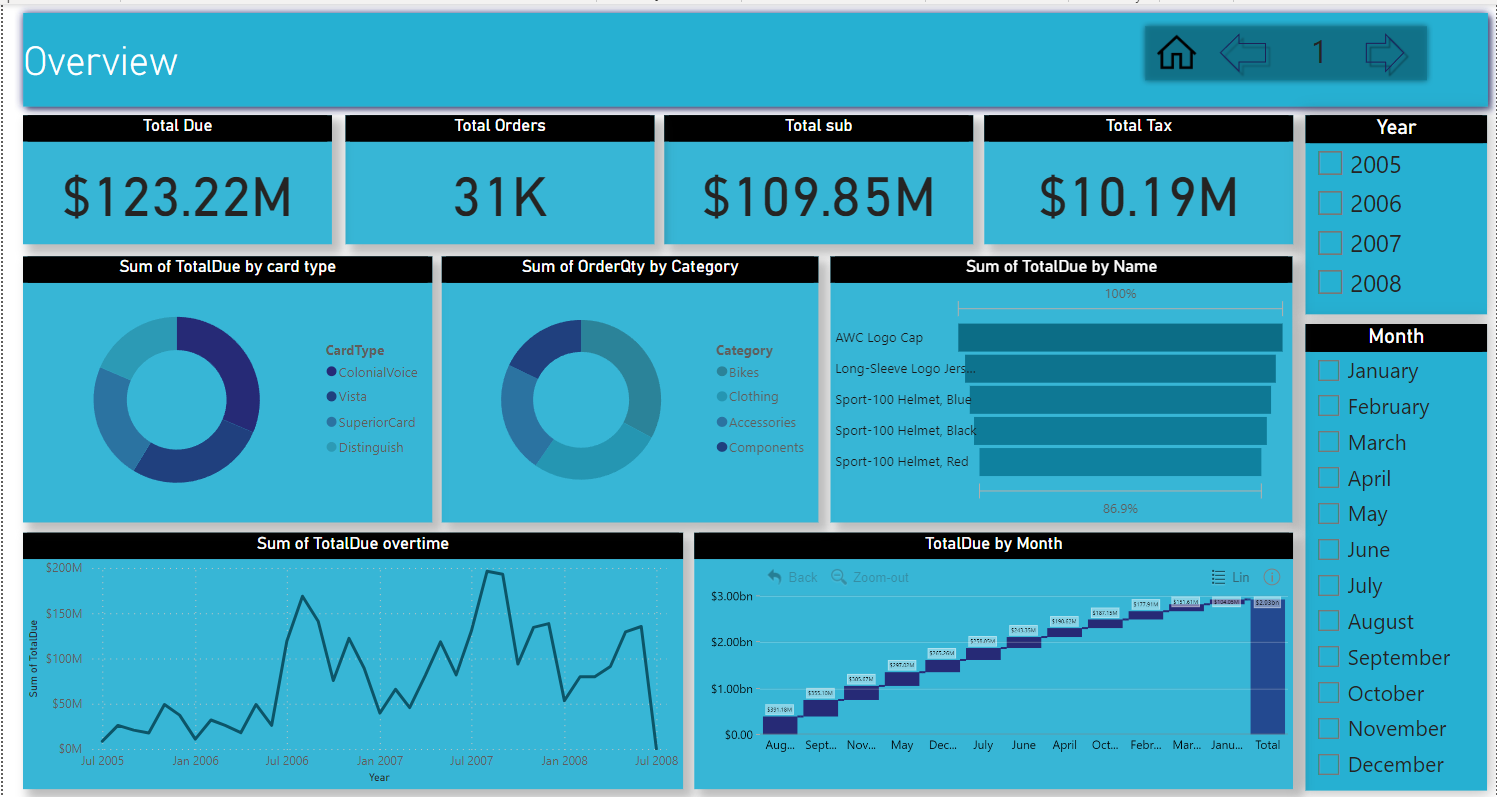

The page's visual inventory and layout, read from the dashboard file:
{"tool":"powerbi","page":{"name":"Overview","canvas":[1500,800],"ordinal":1},"visuals":[{"type":"shape","box":[10.9,0,1489.7,111.7],"z":0},{"type":"shape","box":[1141.1,16.3,295.5,66.7],"z":1000},{"type":"image","box":[1141.1,23.1,74.9,53.1],"z":2000},{"type":"textbox","box":[1308.6,20.4,39.5,59.9],"z":3000},{"type":"shape","box":[1363,23.1,51.7,53.1],"z":4000},{"type":"shape","box":[1216,23.1,59.9,53.1],"z":5000},{"type":"card","title":"Total sub","fields":{"Values":["Measure.Total subtotal"]},"box":[664.5,111.7,310.5,129.4],"z":6000},{"type":"card","title":"Total Orders","fields":{"Values":["Measure.Total Orders"]},"box":[344.5,111.7,310.5,129.4],"z":7000},{"type":"card","title":"Total Due","fields":{"Values":["Measure.Total Due"]},"box":[20.4,111.7,310.5,129.4],"z":8000},{"type":"card","title":"Total Tax","fields":{"Values":["Measure.Total tax"]},"box":[985.8,111.7,310.5,129.4],"z":9000},{"type":"slicer","title":"Year","fields":{"Values":["Dimdate.Date.Variation.Date Hierarchy.Year"]},"box":[1308.6,111.7,182.5,200.2],"z":10000},{"type":"slicer","title":"Month","fields":{"Values":["Dimdate.Date.Variation.Date Hierarchy.Month"]},"box":[1308.6,321.4,182.5,468.4],"z":11000},{"type":"lineChart","title":"Sum of TotalDue overtime","fields":{"Y":["Sum(Fact Sales.TotalDue)"],"Category":["Dimdate.Date.Variation.Date Hierarchy.Year","Dimdate.Date.Variation.Date Hierarchy.Quarter","Dimdate.Date.Variation.Date Hierarchy.Month"]},"box":[20.4,531,663.1,257.4],"z":12000},{"type":"ZoomChartsAdvancedWaterfallE77E4ED357DC402ABA005987437CF900","title":"TotalDue  by Month","fields":{"Values1":["Sum(Fact Sales.TotalDue)"],"Category":["Dimdate.Date.Variation.Date Hierarchy.Month"]},"box":[694.4,531,601.9,257.4],"z":13000},{"type":"donutChart","title":"Sum of TotalDue by card type","fields":{"Y":["Sum(Fact Sales.TotalDue)"],"Category":["DIM CreditCard.CardType"]},"box":[20.4,253.3,411.2,266.9],"z":14000},{"type":"donutChart","fields":{"Category":["Dim Product.Category"],"Y":["Sum(Fact Sales.OrderQty)"]},"box":[441.2,253.3,378.5,266.9],"z":15000},{"type":"funnel","fields":{"Category":["Dim Product.Product.Name"],"Y":["Sum(Fact Sales.TotalDue)"]},"box":[832,253.3,464.3,266.9],"z":16000}]}

Visuals, with their boxes in screenshot pixels (x1, y1, x2, y2), scaled from the page's 1500x800 canvas onto the 1497x797 screenshot:
shape: [x1=11, y1=0, x2=1496, y2=111]
shape: [x1=1139, y1=16, x2=1434, y2=83]
image: [x1=1139, y1=23, x2=1214, y2=76]
textbox: [x1=1306, y1=20, x2=1345, y2=80]
shape: [x1=1360, y1=23, x2=1412, y2=76]
shape: [x1=1214, y1=23, x2=1273, y2=76]
"Total sub" card: [x1=663, y1=111, x2=973, y2=240]
"Total Orders" card: [x1=344, y1=111, x2=654, y2=240]
"Total Due" card: [x1=20, y1=111, x2=330, y2=240]
"Total Tax" card: [x1=984, y1=111, x2=1294, y2=240]
"Year" slicer: [x1=1306, y1=111, x2=1488, y2=311]
"Month" slicer: [x1=1306, y1=320, x2=1488, y2=787]
"Sum of TotalDue overtime" lineChart: [x1=20, y1=529, x2=682, y2=785]
"TotalDue  by Month" ZoomChartsAdvancedWaterfallE77E4ED357DC402ABA005987437CF900: [x1=693, y1=529, x2=1294, y2=785]
"Sum of TotalDue by card type" donutChart: [x1=20, y1=252, x2=431, y2=518]
donutChart - Dim Product.Category x Sum(Fact Sales.OrderQty): [x1=440, y1=252, x2=818, y2=518]
funnel - Dim Product.Product.Name x Sum(Fact Sales.TotalDue): [x1=830, y1=252, x2=1294, y2=518]
